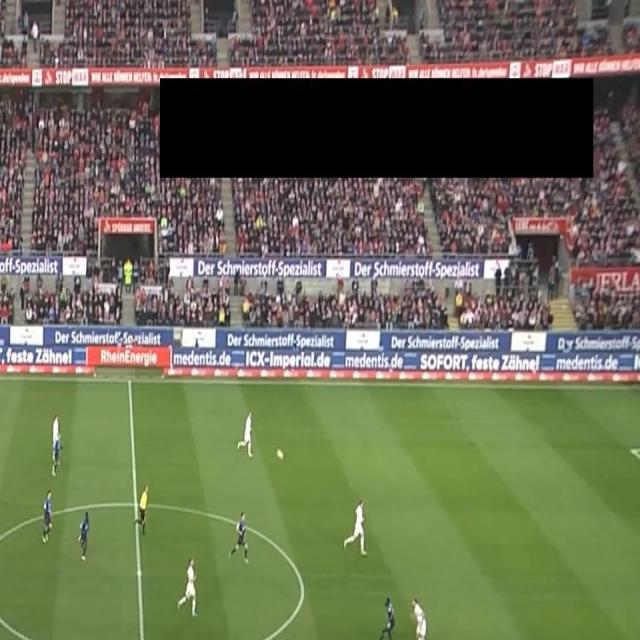ball: (276, 446, 285, 462)
